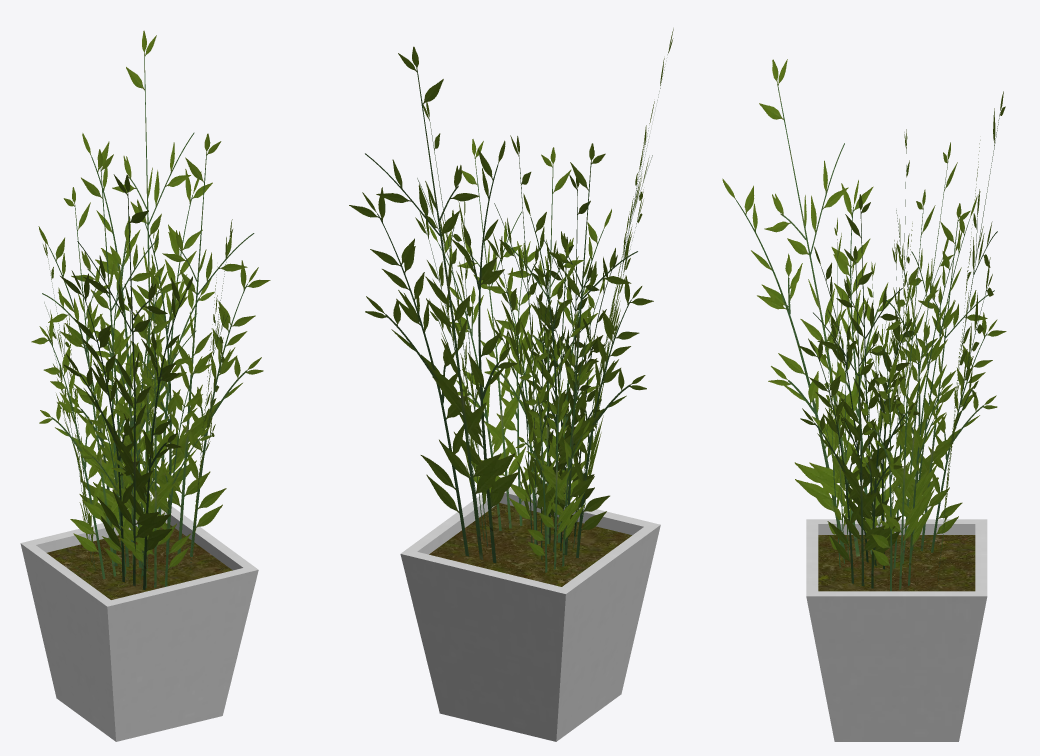
Rendered from palm_plant_new.glb.
The picture shows the model from 3 angles, left to right: view 1: azimuth 30°, elevation 25°; view 2: azimuth 150°, elevation 25°; view 3: azimuth 270°, elevation 25°; orthographic projection. The views are drawn at different scales.
Parts seen in each view (by area): view 1: Pot_4_Low_PolyPlant_0; view 2: Pot_4_Low_PolyPlant_0; view 3: Pot_4_Low_PolyPlant_0.
Part boxes in pixels (bbox=[...]): Pot_4_Low_PolyPlant_0: bbox=[20, 30, 270, 741]; Pot_4_Low_PolyPlant_0: bbox=[349, 28, 673, 741]; Pot_4_Low_PolyPlant_0: bbox=[722, 59, 1006, 741].
Size of the model in its own units: 0.9064 by 2.07 by 0.8938.
1 material, 1 textured.
